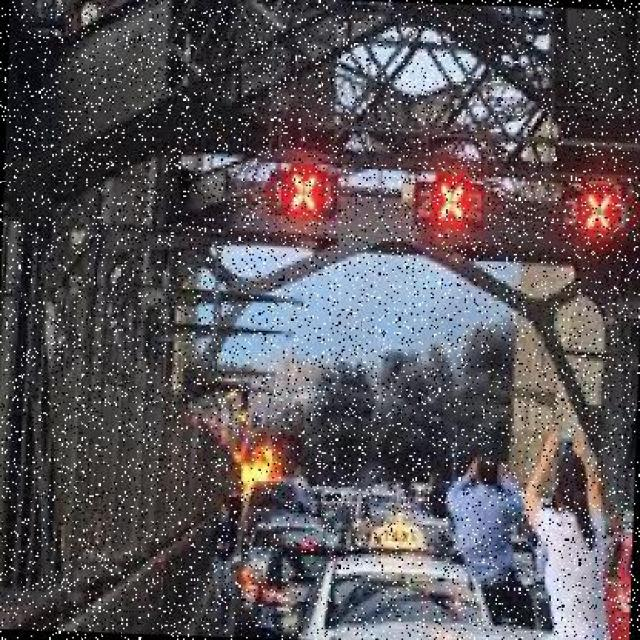fire: (198, 403, 302, 511)
